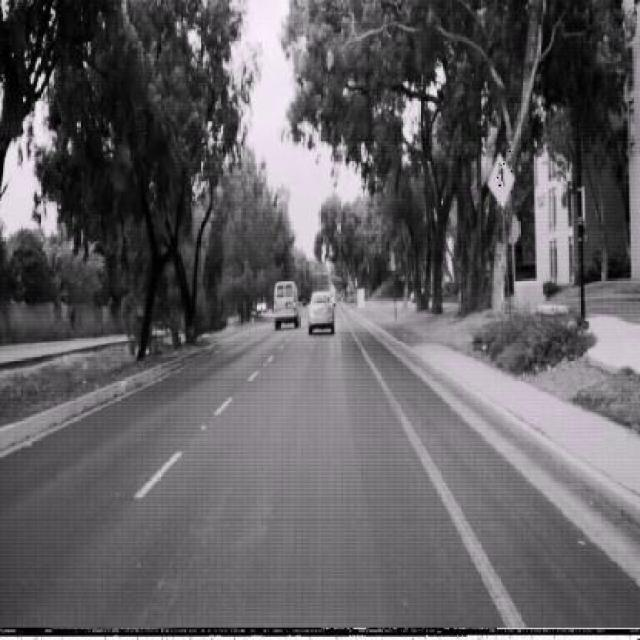pedestrianCrossing: (486, 151, 515, 209)
